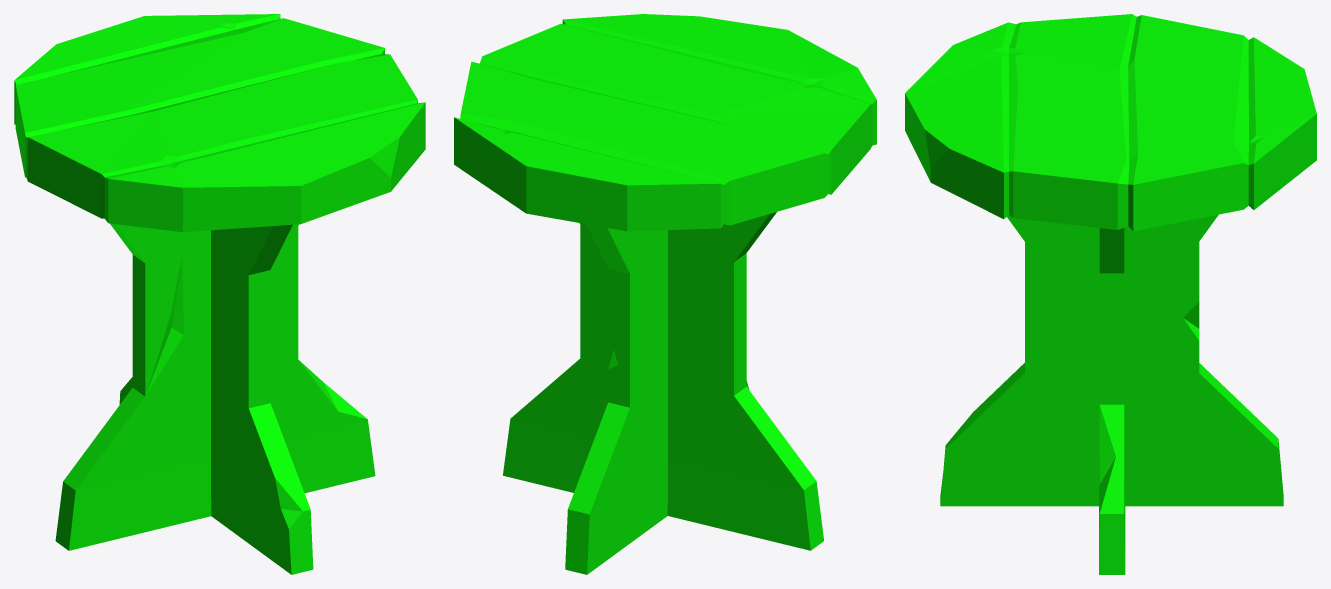
Rendered from SM_Stool_Wooden_A_Fantasy.fbx.
3 renders of one model, left to right at view 1: azimuth 30°, elevation 25°; view 2: azimuth 150°, elevation 25°; view 3: azimuth 270°, elevation 25°, orthographic.
Visible parts, largest first — view 1: stool-wooden-a-fantasy; view 2: stool-wooden-a-fantasy; view 3: stool-wooden-a-fantasy.
Boxes of the visible parts, box(x1,y1,x2,y2) form: stool-wooden-a-fantasy: box(14, 14, 425, 574); stool-wooden-a-fantasy: box(454, 14, 876, 574); stool-wooden-a-fantasy: box(905, 14, 1316, 574).
Size of the model in its own units: 0.4577 by 0.4995 by 0.4625.
